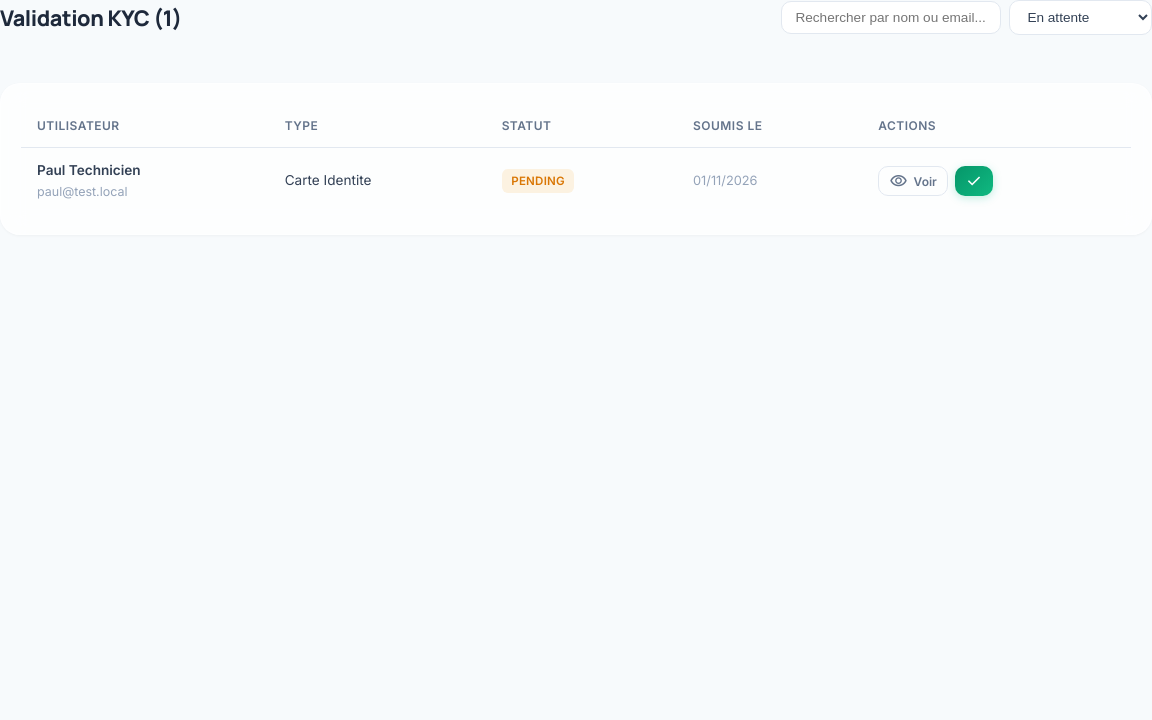
AdminKyc › propose l'ouverture d'un PDF au lieu d'un aperçu
This screenshot has width=1152, height=720.
Expected: the text "Paul Technicien" is shown, [37,162,141,178]
Click the button with class "adm-btn-outline" at (913, 181), box [878,166,948,196]
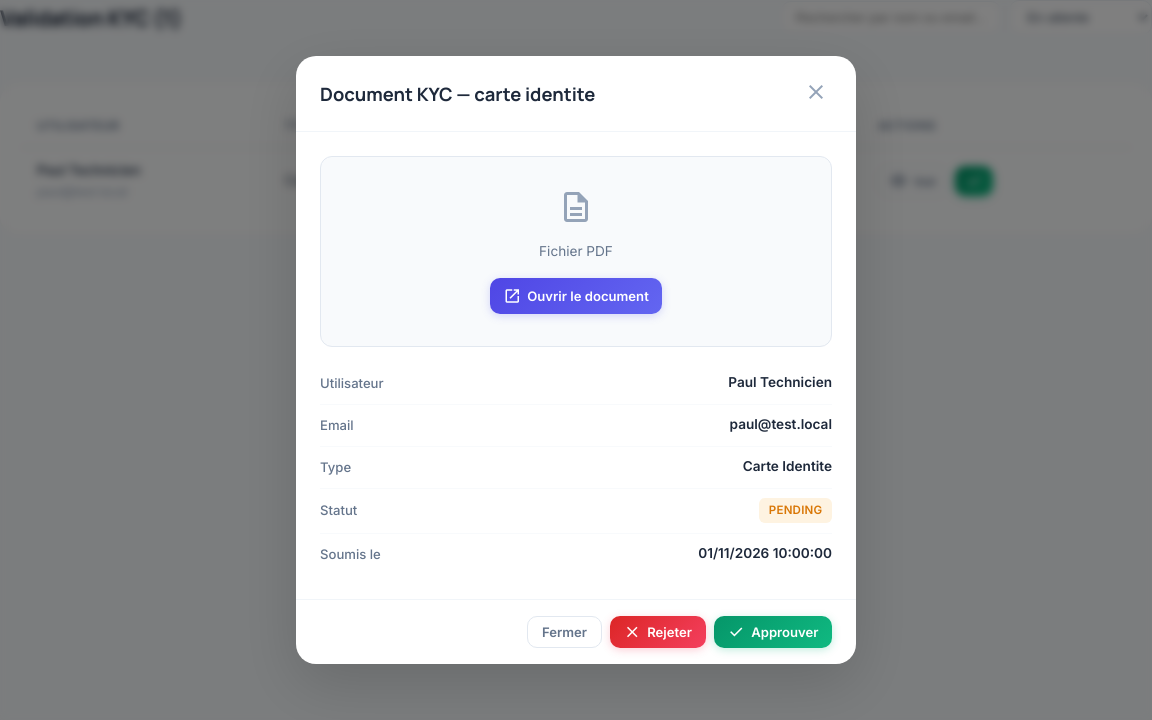
Result: the link to "http://api.test/storage/kyc/a.pdf" is shown at [490,278,662,314]
